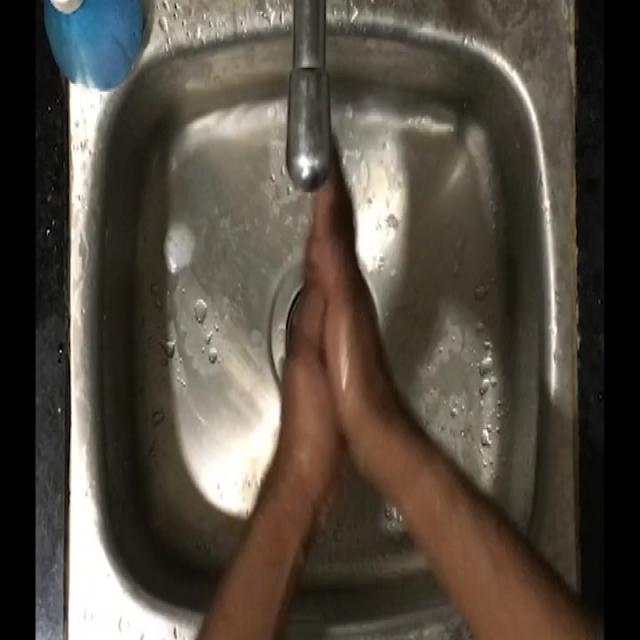step_1: (264, 110, 394, 457)
